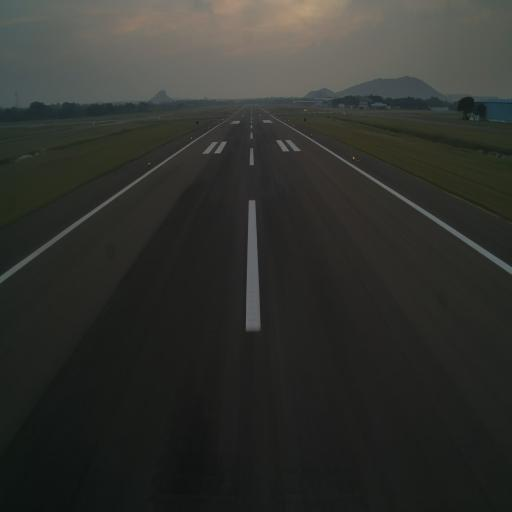on: (146, 160, 152, 168), (350, 154, 356, 162)
